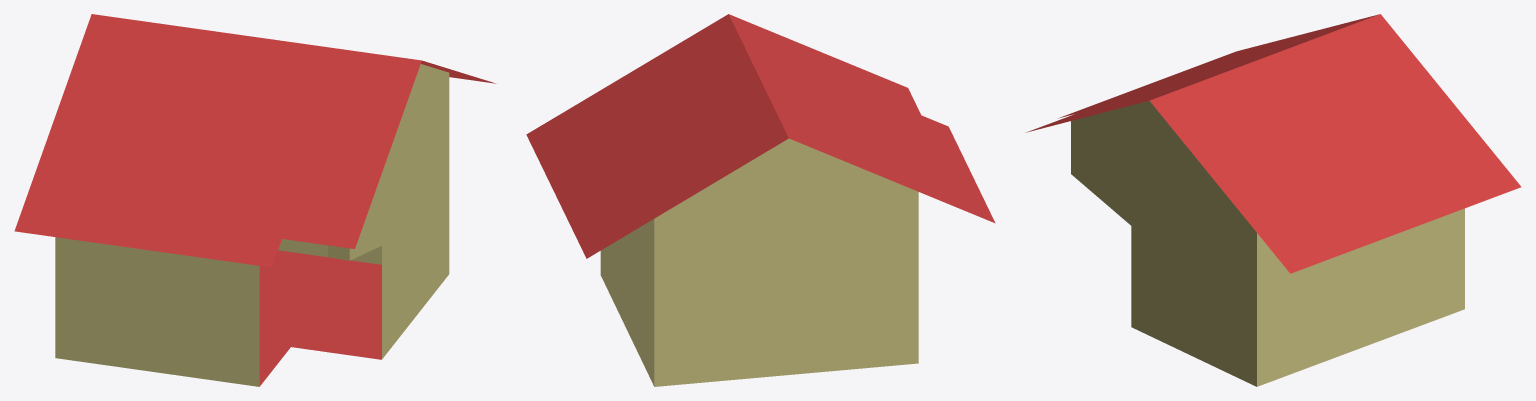
3 views of the same model, side by side, from view 1: azimuth 30°, elevation 25°; view 2: azimuth 150°, elevation 25°; view 3: azimuth 270°, elevation 25° (orthographic). The views are drawn at different scales.
Bounding box in the file's own units: 25.4 × 23.99 × 13.22.
